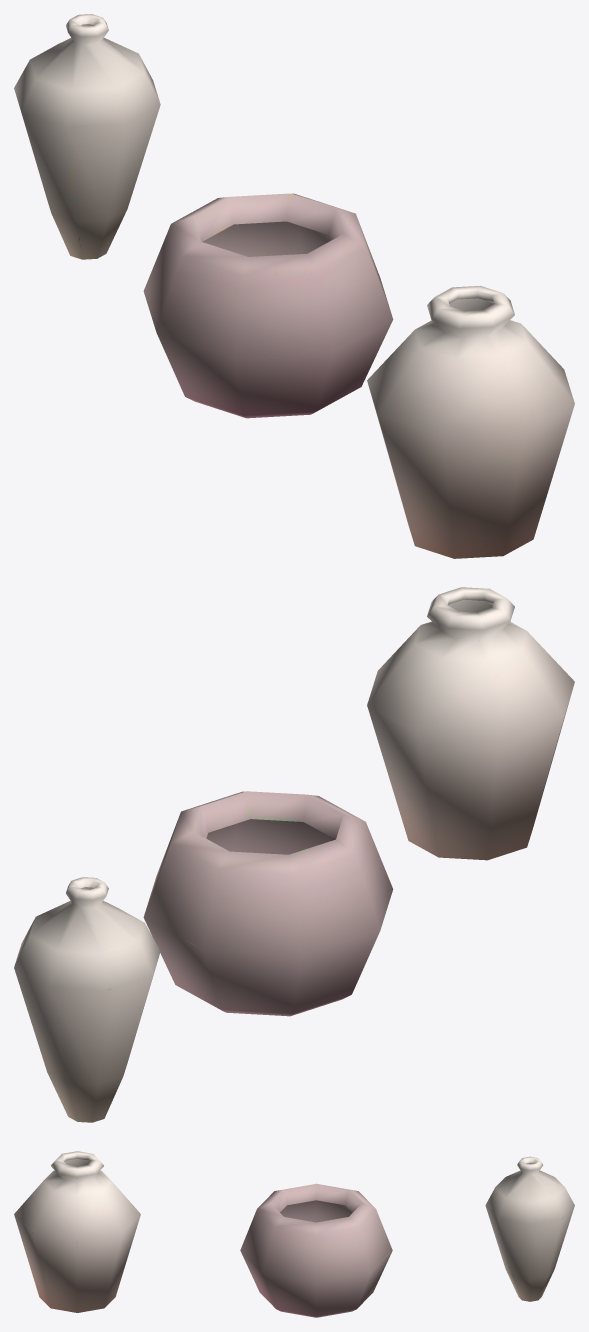
File: Vessels.fbx
3 views of the same model, one above another, from view 1: azimuth 30°, elevation 25°; view 2: azimuth 150°, elevation 25°; view 3: azimuth 270°, elevation 25° (orthographic). The views are drawn at different scales.
Parts seen in each view (by area): view 1: Vessel1, Vessel, Vessel2; view 2: Vessel1, Vessel, Vessel2; view 3: Vessel1, Vessel, Vessel2.
Part boxes in pixels (left/top/right/bottom): Vessel1: left=143, top=193, right=393, bottom=418; Vessel: left=367, top=285, right=574, bottom=558; Vessel2: left=14, top=14, right=160, bottom=259; Vessel1: left=143, top=791, right=393, bottom=1016; Vessel: left=367, top=587, right=574, bottom=860; Vessel2: left=14, top=877, right=160, bottom=1122; Vessel1: left=240, top=1183, right=392, bottom=1317; Vessel: left=14, top=1151, right=140, bottom=1312; Vessel2: left=485, top=1156, right=574, bottom=1301.
Bounding box in the file's own units: 71.05 × 70.12 × 261.
